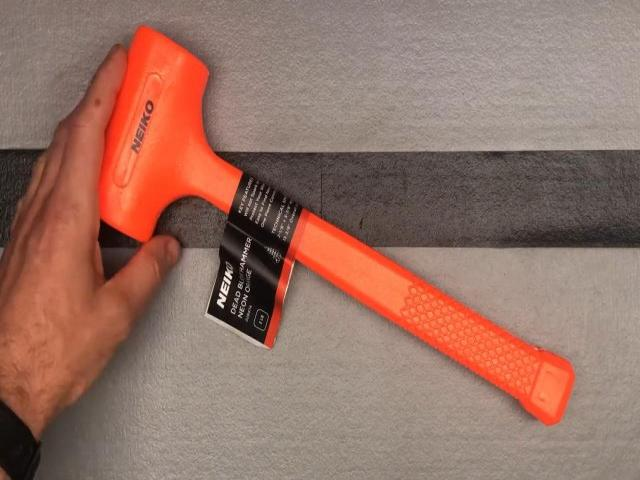hammer: (72, 25, 576, 424)
